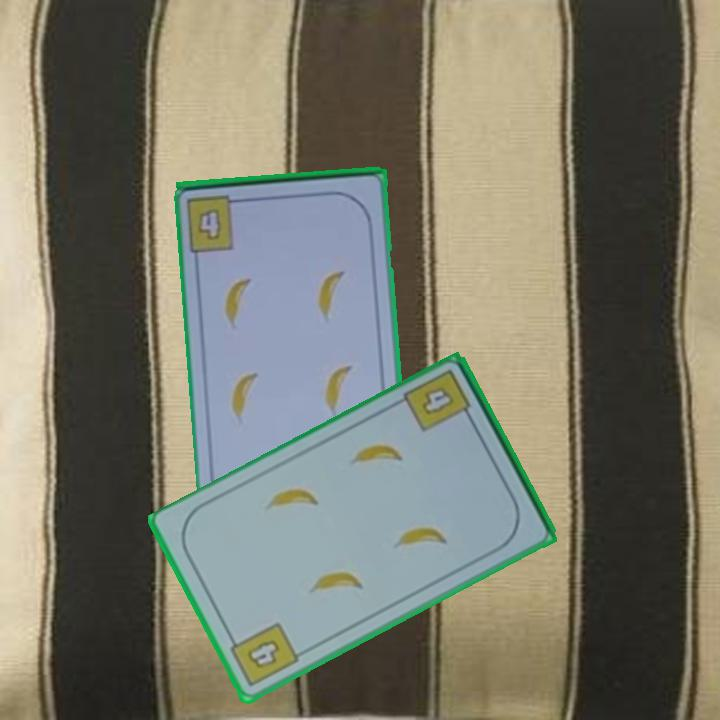4b: (224, 619, 303, 690), (400, 366, 477, 436), (194, 205, 226, 244)
